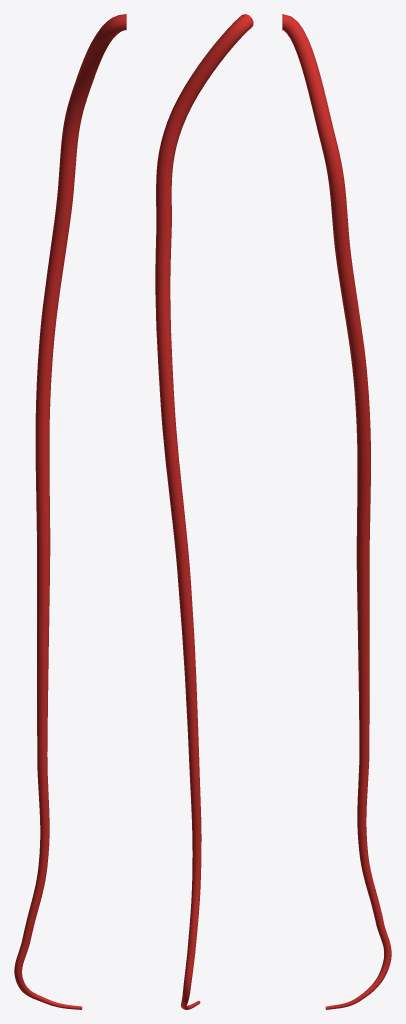
The model's file is circulatorio-fibular-veins-l.glb.
3 views of the same model, side by side, from view 1: azimuth 90°, elevation 25°; view 2: azimuth 150°, elevation 25°; view 3: azimuth 270°, elevation 25° (orthographic). The views are drawn at different scales.
Visible parts, largest first — view 1: Fibular veins.l; view 2: Fibular veins.l; view 3: Fibular veins.l.
Part boxes in pixels (box(x1,y1,x2,y2)): Fibular veins.l: box(14, 14, 126, 1009); Fibular veins.l: box(155, 14, 253, 1009); Fibular veins.l: box(282, 14, 391, 1009).
Size of the model in its own units: 0.0234 by 0.3214 by 0.0324.
